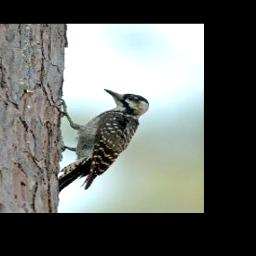Woodpecker: (49, 88, 153, 195)
